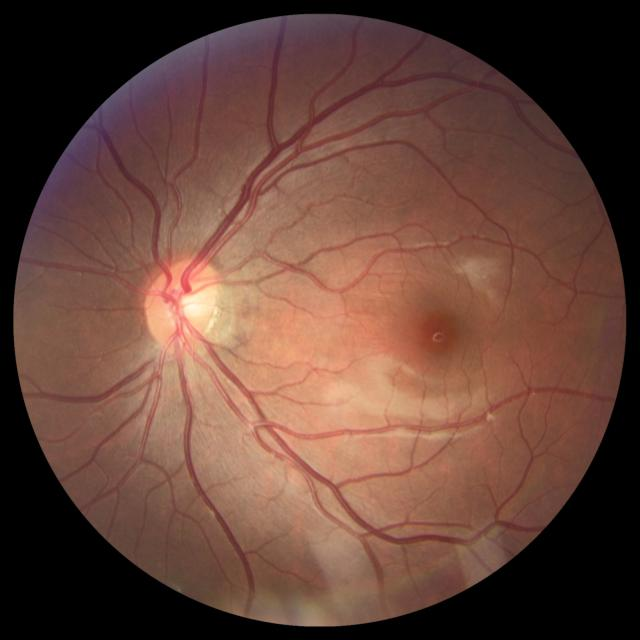OC: (169, 288, 202, 324)
OD: (147, 257, 222, 347)
